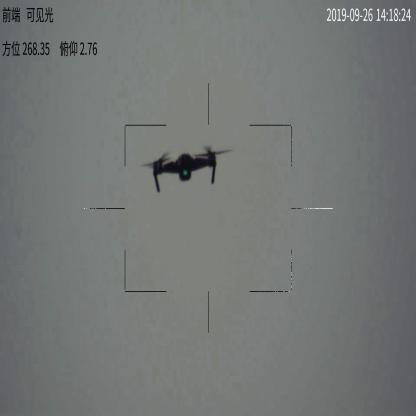uav: (137, 144, 233, 193)
